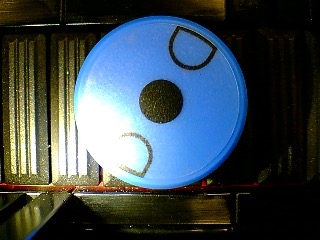BOHOMIPO2: (73, 15, 249, 190)
